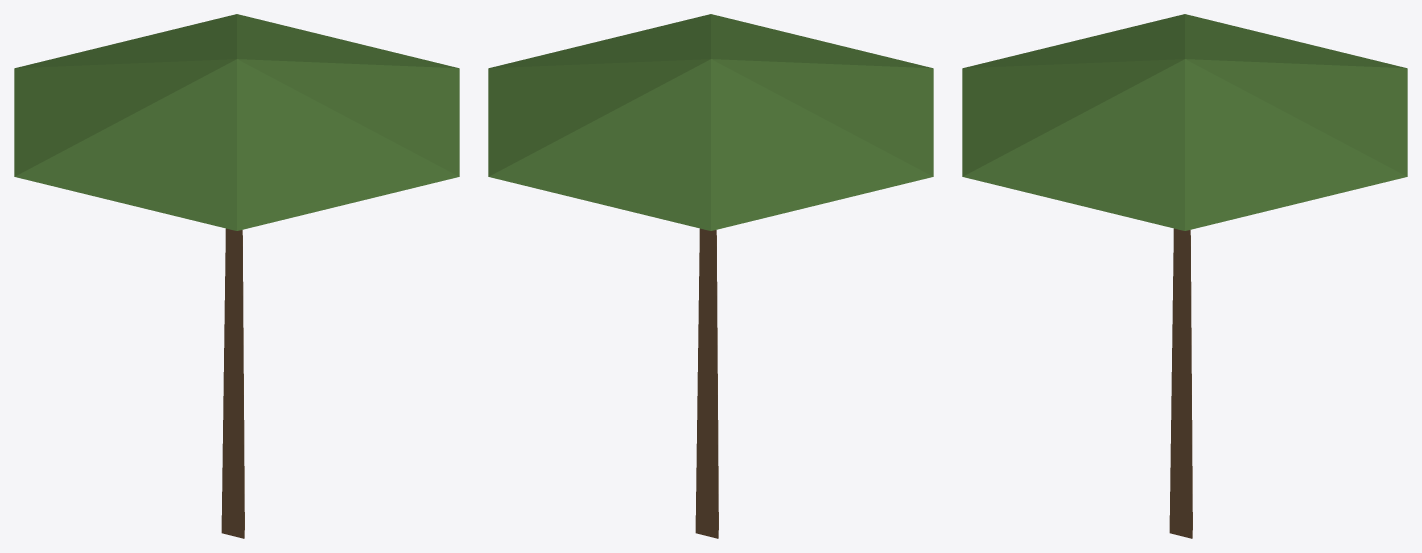
Rendered from pin_parasol_loin.glb.
3 views of the same model, side by side, from view 1: azimuth 30°, elevation 25°; view 2: azimuth 150°, elevation 25°; view 3: azimuth 270°, elevation 25° (orthographic).
Parts seen in each view (by area): view 1: pin_parasol_loin; view 2: pin_parasol_loin; view 3: pin_parasol_loin.
Boxes of the visible parts, x1,y1,x2,y2 form: pin_parasol_loin: (14,14,459,538); pin_parasol_loin: (488,14,933,538); pin_parasol_loin: (962,14,1407,538).
Bounding box in the file's own units: 11 × 11.2 × 9.53.
Materials: 1 (1 with a texture image).
